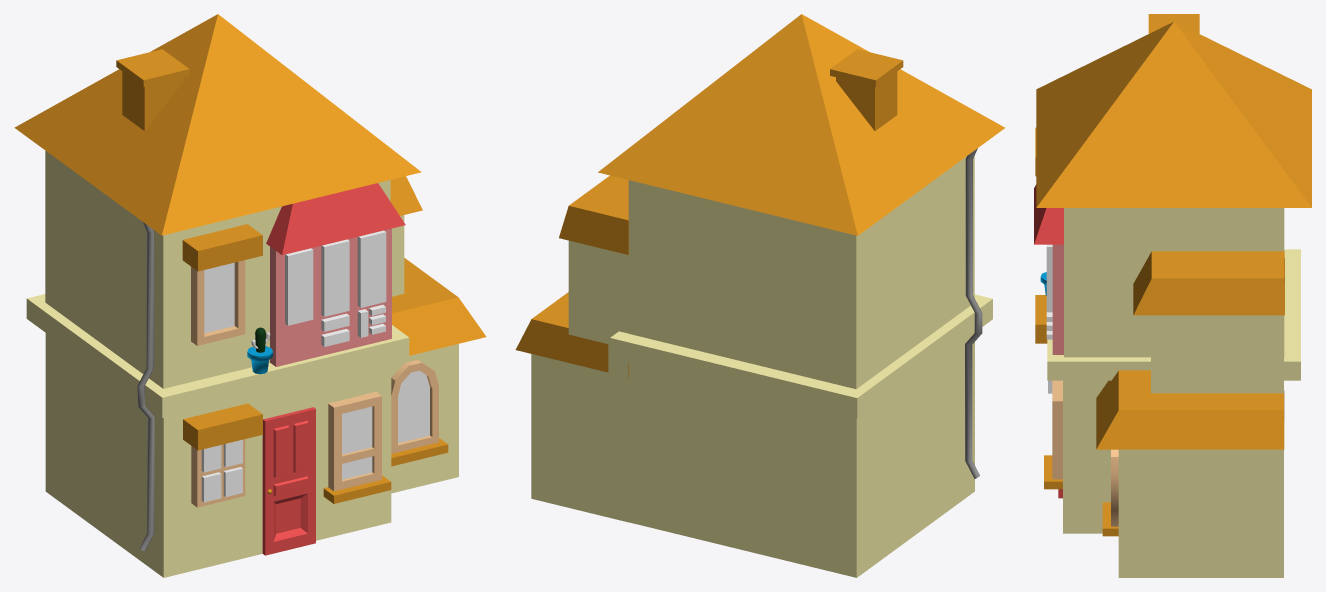
The picture shows the model from 3 angles, left to right: view 1: azimuth 30°, elevation 25°; view 2: azimuth 150°, elevation 25°; view 3: azimuth 270°, elevation 25°; orthographic projection. The views are drawn at different scales.
Parts seen in each view (by area): view 1: Pyramid001, Box001, Box002, Box003, Box024, Box009, Box010, Box006, Box025, Box005, Box012, Box027 (+12 smaller); view 2: Box001, Box002, Pyramid001, Box005, Box003, Box008, Box007, Box004, Box006, Cylinder001; view 3: Pyramid001, Box005, Box002, Box006, Box008, Box007, Box001, Box003, Box009, Box010, Box025, Box004 (+5 smaller).
Part boxes in pixels (x1=…): Pyramid001: x1=14, y1=14, x2=421, y2=235; Box001: x1=45, y1=333, x2=391, y2=577; Box002: x1=45, y1=150, x2=390, y2=388; Box003: x1=26, y1=294, x2=409, y2=417; Box024: x1=262, y1=407, x2=315, y2=555; Box009: x1=270, y1=228, x2=391, y2=366; Box010: x1=266, y1=183, x2=405, y2=255; Box006: x1=392, y1=258, x2=486, y2=355; Box025: x1=328, y1=392, x2=381, y2=491; Box005: x1=391, y1=344, x2=458, y2=493; Box012: x1=191, y1=260, x2=245, y2=345; Box027: x1=391, y1=360, x2=438, y2=453; Box001: x1=629, y1=333, x2=974, y2=577; Box002: x1=628, y1=156, x2=974, y2=389; Pyramid001: x1=598, y1=14, x2=1004, y2=235; Box005: x1=531, y1=354, x2=628, y2=522; Box003: x1=610, y1=294, x2=992, y2=418; Box008: x1=568, y1=240, x2=628, y2=399; Box007: x1=559, y1=175, x2=628, y2=254; Box004: x1=830, y1=49, x2=903, y2=130; Box006: x1=515, y1=292, x2=629, y2=377; Cylinder001: x1=965, y1=148, x2=982, y2=478; Pyramid001: x1=1036, y1=21, x2=1311, y2=207; Box005: x1=1118, y1=449, x2=1283, y2=577; Box002: x1=1064, y1=208, x2=1284, y2=357; Box006: x1=1096, y1=370, x2=1284, y2=449; Box008: x1=1151, y1=315, x2=1283, y2=393; Box007: x1=1133, y1=251, x2=1284, y2=315; Box001: x1=1063, y1=380, x2=1110, y2=533; Box003: x1=1047, y1=249, x2=1300, y2=380; Box009: x1=1052, y1=244, x2=1063, y2=354; Box010: x1=1034, y1=184, x2=1063, y2=244; Box025: x1=1052, y1=380, x2=1062, y2=479; Box004: x1=1148, y1=14, x2=1199, y2=33.
Size of the model in its own units: 54.9 by 72.45 by 39.63.
9 materials, 1 textured.
